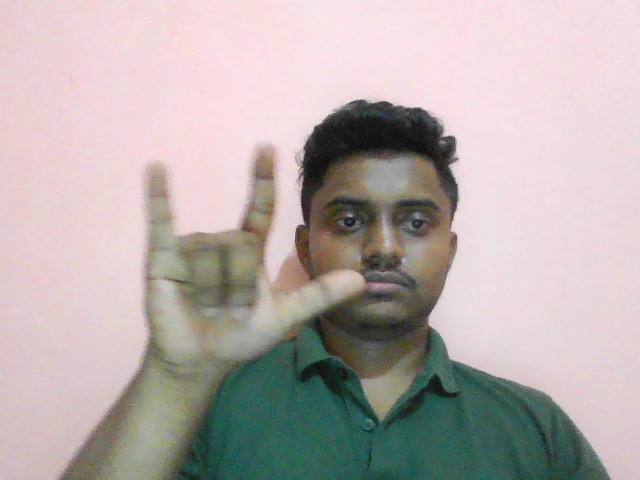I Love You: (128, 137, 368, 401)
